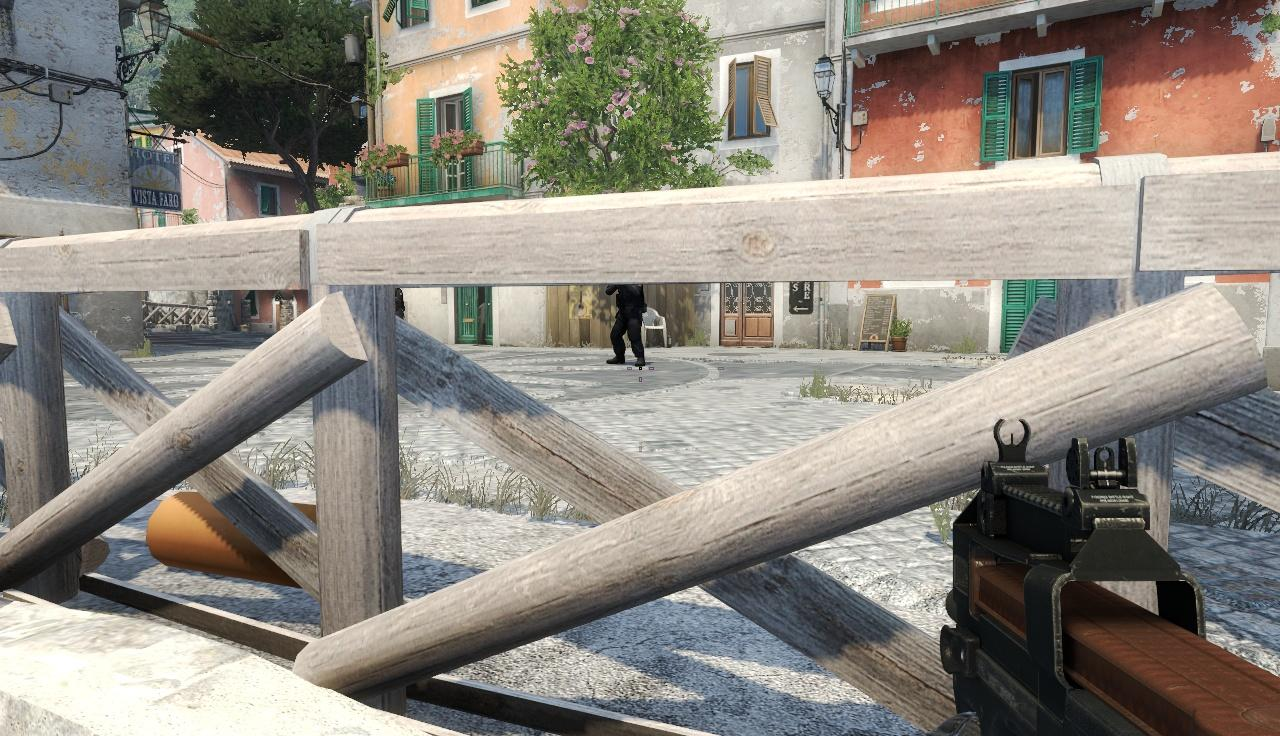ct: (611, 285, 645, 367)
rifle: (948, 415, 1277, 732)
